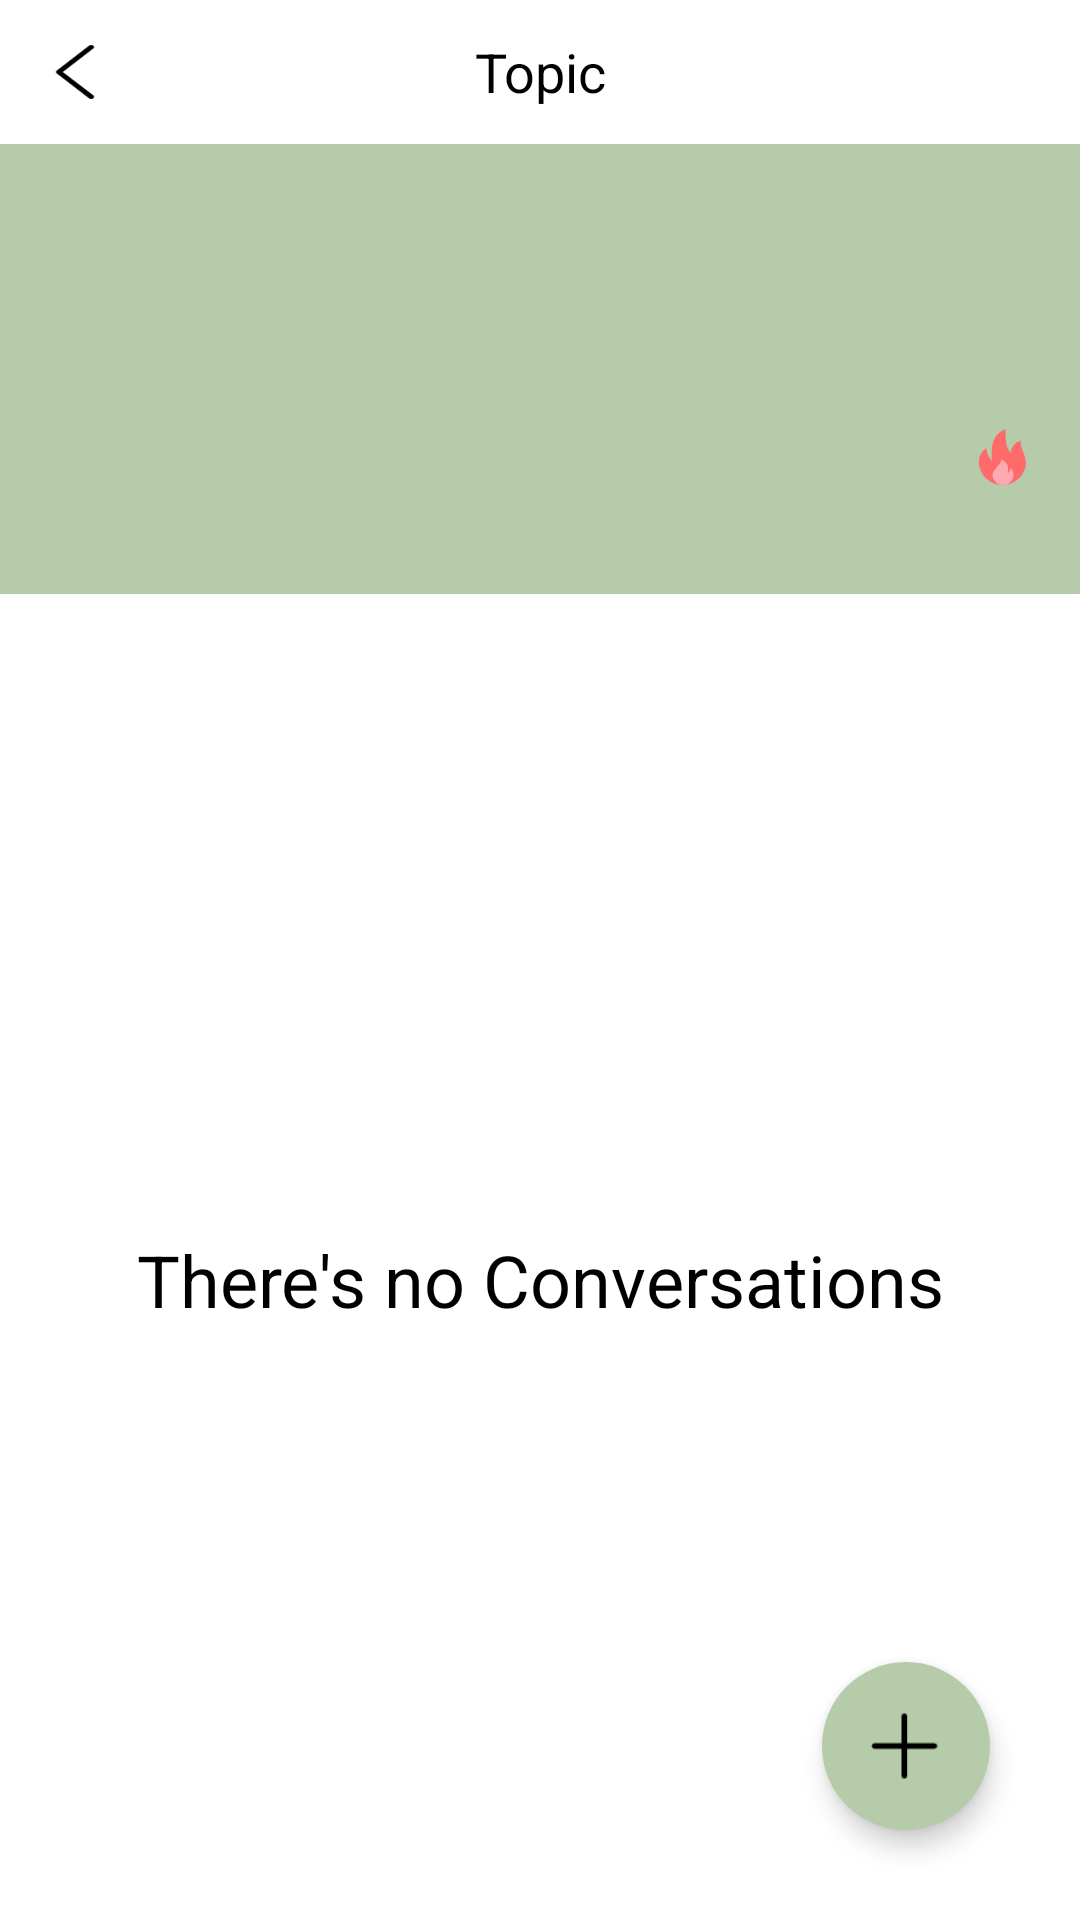

Named icons in this screenshot (1080 × 1920) and their bounding boxes, (x1, y1, x2, y2):
add: (822, 1662, 990, 1830)
back: (55, 45, 95, 99)
